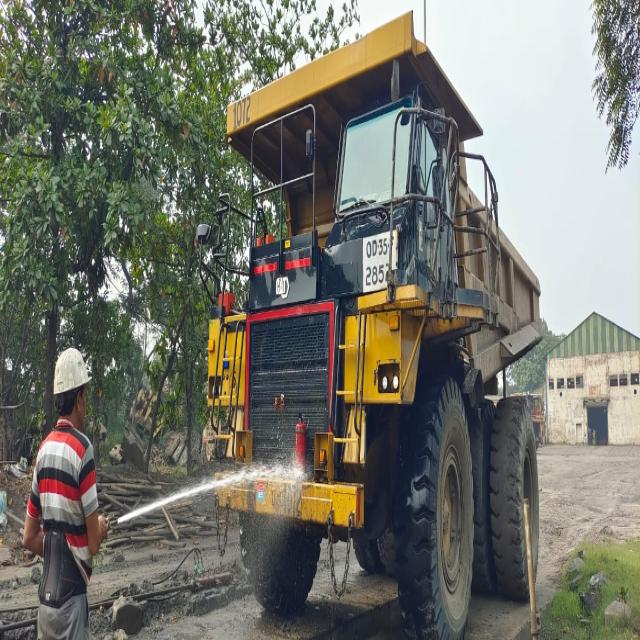dump_truck: (209, 13, 538, 635)
